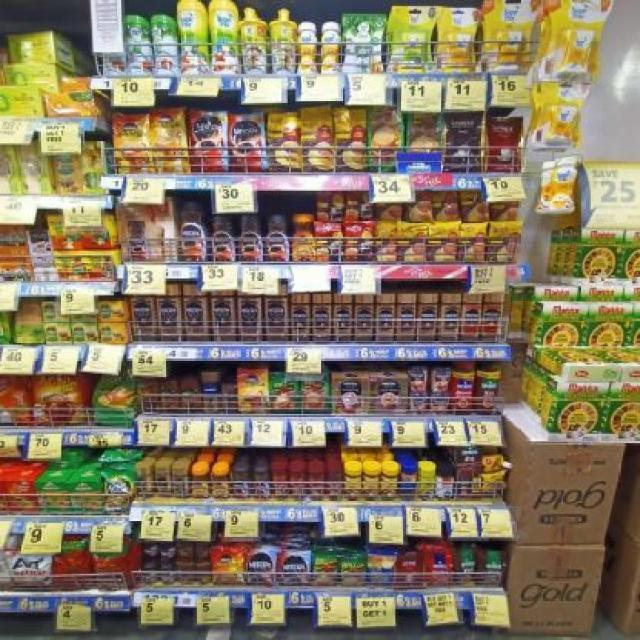Coffee: (190, 114, 228, 172), (150, 113, 186, 173), (230, 114, 266, 172), (115, 117, 149, 174), (180, 201, 210, 262), (184, 285, 210, 341), (130, 285, 156, 340), (211, 285, 236, 341), (265, 285, 290, 340), (157, 285, 181, 342), (238, 369, 269, 413), (239, 286, 262, 342), (239, 216, 264, 262), (265, 216, 290, 262), (292, 215, 316, 262), (212, 549, 244, 584), (212, 216, 236, 262), (246, 551, 277, 585), (280, 553, 312, 584), (376, 293, 395, 344), (418, 293, 437, 342), (334, 294, 353, 343), (292, 295, 311, 342), (312, 295, 331, 342), (398, 294, 416, 342), (440, 295, 458, 342), (355, 294, 372, 343), (156, 466, 172, 497), (173, 467, 189, 498), (191, 469, 208, 498), (211, 470, 228, 499), (233, 470, 249, 499), (253, 470, 269, 499), (137, 469, 152, 498), (158, 571, 176, 584), (141, 545, 156, 558), (159, 546, 175, 558), (140, 568, 154, 581)
